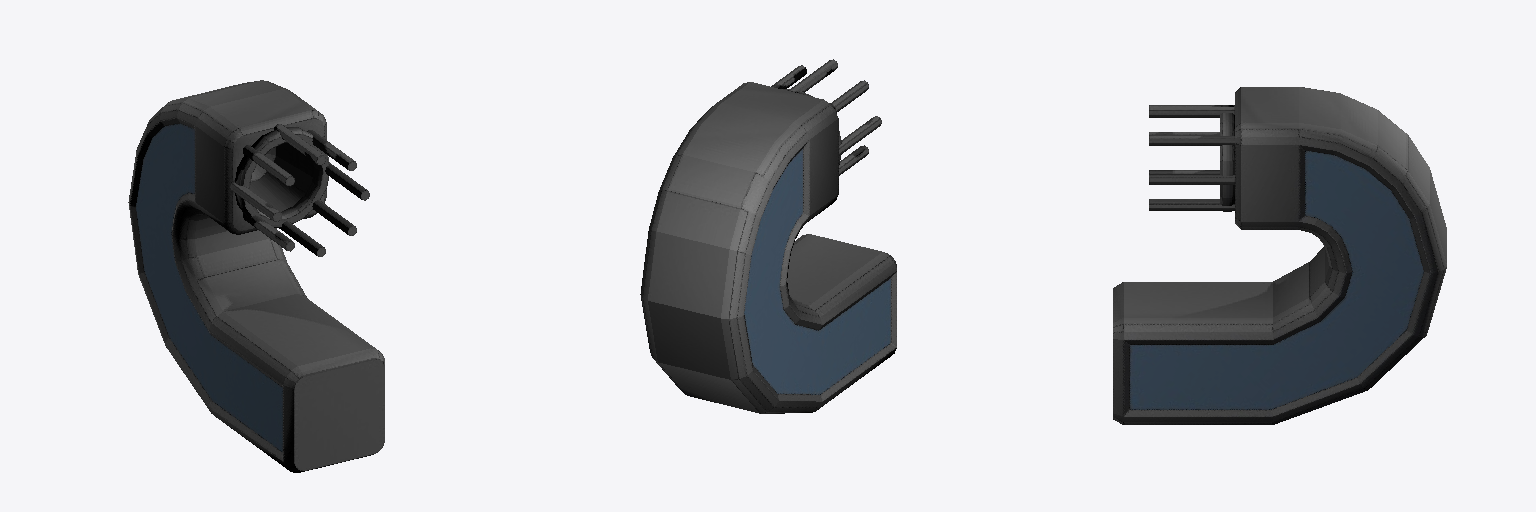
The picture shows the model from 3 angles: view 1: azimuth 30°, elevation 25°; view 2: azimuth 150°, elevation 25°; view 3: azimuth 270°, elevation 25°; orthographic projection.
Visible parts, largest first — view 1: gun; view 2: gun; view 3: gun.
Part boxes in pixels (x1,y1,x2,y2): gun: (128, 80, 384, 472); gun: (640, 59, 896, 413); gun: (1113, 87, 1446, 424).
Bounding box in the file's own units: 46.08 × 130 × 131.
Materials: 1 (1 with a texture image).